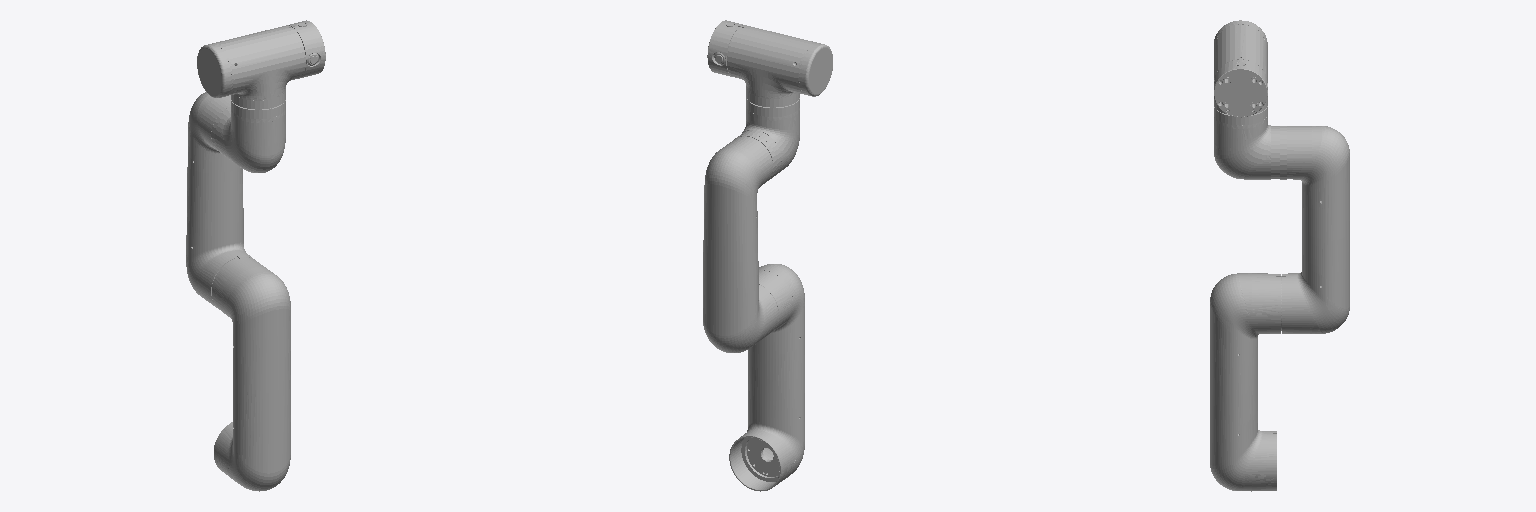
robot.urdf — mycobot_pro450:
<?xml version="1.0" encoding="utf-8"?>
<!-- This URDF was automatically created by SolidWorks to URDF Exporter! Originally created by Stephen Brawner (brawner@gmail.com) 
     Commit Version: 1.6.0-4-g7f85cfe  Build Version: 1.6.7995.38578
     For more information, please see http://wiki.ros.org/sw_urdf_exporter -->
<robot
  name="mycobot_pro450">
  <link                                                                                                                                                                           
    name="base_link">
    <inertial>
      <origin
        xyz="-0.0107 -0.0002 0.0723"
        rpy="0 0 0" />
      <mass
        value="2.2569" />
      <inertia
        ixx="0.0206"
        ixy="0"
        ixz="-0.0011"
        iyy="0.0225"
        iyz="0"
        izz="0.0057" />
    </inertial>
    <visual>
      <origin
        xyz="0 0 0"
        rpy="0 0 0" />
      <geometry>
        <mesh
          filename="package://mycobot_pro_450_description/meshes/base_link.STL" />
      </geometry>
      <material
        name="">
        <color
          rgba="0.75294 0.75294 0.75294 1" />
      </material>
    </visual>
    <collision>
      <origin
        xyz="0 0 0"
        rpy="0 0 0" />
      <geometry>
        <mesh
          filename="package://mycobot_pro_450_description/meshes/base_link.STL" />
      </geometry>
    </collision>
  </link>
  <link
    name="Link1">
    <inertial>
      <origin
        xyz="0.0005 -0.0269 -0.0023"
        rpy="0 0 0" />
      <mass
        value="0.7923" />
      <inertia
        ixx="0.0014"
        ixy="0"
        ixz="0"
        iyy="0.0005"
        iyz="0"
        izz="0.0014" />
    </inertial>
    <visual>
      <origin
        xyz="0 0 0"
        rpy="0 0 0" />
      <geometry>
        <mesh
          filename="package://mycobot_pro_450_description/meshes/Link1.STL" />
      </geometry>
      <material
        name="">
        <color
          rgba="0.75294 0.75294 0.75294 1" />
      </material>
    </visual>
    <collision>
      <origin
        xyz="0 0 0"
        rpy="0 0 0" />
      <geometry>
        <mesh
          filename="package://mycobot_pro_450_description/meshes/Link1.STL" />
      </geometry>
    </collision>
  </link>
  <joint
    name="joint1"
    type="revolute">
    <origin
      xyz="0 0 0.210000000061212"
      rpy="0 0 0" />
    <parent
      link="base_link" />
    <child
      link="Link1" />
    <axis
      xyz="0 0 1" />
    <limit
      lower="-2.827433"
      upper="2.82743"
      effort="0"
      velocity="2.6178" />
  </joint>
  <link
    name="Link2">
    <inertial>
      <origin
        xyz="-0.1353 0.0001 0.0747"
        rpy="0 0 0" />
      <mass
        value="0.8204" />
      <inertia
        ixx="0.0051"
        ixy="0"
        ixz="-0.0079"
        iyy="0.0238"
        iyz="0"
        izz="0.0191" />
    </inertial>
    <visual>
      <origin
        xyz="0 0 0"
        rpy="0 0 0" />
      <geometry>
        <mesh
          filename="package://mycobot_pro_450_description/meshes/Link2.STL" />
      </geometry>
      <material
        name="">
        <color
          rgba="0.75294 0.75294 0.75294 1" />
      </material>
    </visual>
    <collision>
      <origin
        xyz="0 0 0"
        rpy="0 0 0" />
      <geometry>
        <mesh
          filename="package://mycobot_pro_450_description/meshes/Link2.STL" />
      </geometry>
    </collision>
  </link>
  <joint
    name="joint2"
    type="revolute">
    <origin
      xyz="0 0 0"
      rpy="1.57079632679529 1.5707963267949 0" />
    <parent
      link="Link1" />
    <child
      link="Link2" />
    <axis
      xyz="0 0 1" />
    <limit
      lower="-2.181622"
      upper="2.181622"
      effort="0"
      velocity="2.6178" />
  </joint>
  <link
    name="Link3">
    <inertial>
      <origin
        xyz="-0.1141 -0.0001 0.013"
        rpy="0 0 0" />
      <mass
        value="0.6" />
      <inertia
        ixx="0.0005"
        ixy="0"
        ixz="-0.0011"
        iyy="0.0113"
        iyz="0"
        izz="0.011" />
    </inertial>
    <visual>
      <origin
        xyz="0 0 0"
        rpy="0 0 0" />
      <geometry>
        <mesh
          filename="package://mycobot_pro_450_description/meshes/Link3.STL" />
      </geometry>
      <material
        name="">
        <color
          rgba="0.75294 0.75294 0.75294 1" />
      </material>
    </visual>
    <collision>
      <origin
        xyz="0 0 0"
        rpy="0 0 0" />
      <geometry>
        <mesh
          filename="package://mycobot_pro_450_description/meshes/Link3.STL" />
      </geometry>
    </collision>
  </link>
  <joint
    name="joint3"
    type="revolute">
    <origin
      xyz="-0.179219598097142 0 0"
      rpy="0 0 0" />
    <parent
      link="Link2" />
    <child
      link="Link3" />
    <axis
      xyz="0 0 1" />
    <limit
      lower="-2.687807"
      upper="2.687807"
      effort="0"
      velocity="2.6178" />
  </joint>
  <link
    name="Link4">
    <inertial>
      <origin
        xyz="-0.0218 0 -0.0064"
        rpy="0 0 0" />
      <mass
        value="0.4483" />
      <inertia
        ixx="0.0002"
        ixy="0"
        ixz="0"
        iyy="0.0006"
        iyz="0"
        izz="0.0006" />
    </inertial>
    <visual>
      <origin
        xyz="0 0 0"
        rpy="0 0 0" />
      <geometry>
        <mesh
          filename="package://mycobot_pro_450_description/meshes/Link4.STL" />
      </geometry>
      <material
        name="">
        <color
          rgba="0.75294 0.75294 0.75294 1" />
      </material>
    </visual>
    <collision>
      <origin
        xyz="0 0 0"
        rpy="0 0 0" />
      <geometry>
        <mesh
          filename="package://mycobot_pro_450_description/meshes/Link4.STL" />
      </geometry>
    </collision>
  </link>
  <joint
    name="joint4"
    type="revolute">
    <origin
      xyz="-0.173780401902847 0 0.0854905429592015"
      rpy="0 0 -1.5707963267949" />
    <parent
      link="Link3" />
    <child
      link="Link4" />
    <axis
      xyz="0 0 1" />
    <limit
      lower="-2.827433"
      upper="2.827433"
      effort="0"
      velocity="2.6178" />
  </joint>
  <link
    name="Link5">
    <inertial>
      <origin
        xyz="0 -0.0089 -0.0044"
        rpy="0 0 0" />
      <mass
        value="0.4642" />
      <inertia
        ixx="0.0004"
        ixy="0"
        ixz="0"
        iyy="0.0002"
        iyz="0"
        izz="0.0004" />
    </inertial>
    <visual>
      <origin
        xyz="0 0 0"
        rpy="0 0 0" />
      <geometry>
        <mesh
          filename="package://mycobot_pro_450_description/meshes/Link5.STL" />
      </geometry>
      <material
        name="">
        <color
          rgba="0.75294 0.75294 0.75294 1" />
      </material>
    </visual>
    <collision>
      <origin
        xyz="0 0 0"
        rpy="0 0 0" />
      <geometry>
        <mesh
          filename="package://mycobot_pro_450_description/meshes/Link5.STL" />
      </geometry>
    </collision>
  </link>
  <joint
    name="joint5"
    type="revolute">
    <origin
      xyz="0 -0.097501 0"
      rpy="1.5708 -1.5708 0" />
    <parent
      link="Link4" />
    <child
      link="Link5" />
    <axis
      xyz="0 0 1" />
    <limit
      lower="-2.827433"
      upper="2.827433"
      effort="0"
      velocity="2.6178" />
  </joint>
  <link
    name="Link6">
    <inertial>
      <origin
        xyz="0 -0.0001 -0.0138"
        rpy="0 0 0" />
      <mass
        value="0.129" />
      <inertia
        ixx="0.0001"
        ixy="0"
        ixz="0"
        iyy="0.0001"
        iyz="0"
        izz="0.0001" />
    </inertial>
    <visual>
      <origin
        xyz="0 0 0"
        rpy="0 0 0" />
      <geometry>
        <mesh
          filename="package://mycobot_pro_450_description/meshes/Link6.STL" />
      </geometry>
      <material
        name="">
        <color
          rgba="0.75294 0.75294 0.75294 1" />
      </material>
    </visual>
    <collision>
      <origin
        xyz="0 0 0"
        rpy="0 0 0" />
      <geometry>
        <mesh
          filename="package://mycobot_pro_450_description/meshes/Link6.STL" />
      </geometry>
    </collision>
  </link>
  <joint
    name="joint6"
    type="revolute">
    <origin
      xyz="0 0.063173 0.00020984"
      rpy="-1.5708 0 0" />
    <parent
      link="Link5" />
    <child
      link="Link6" />
    <axis
      xyz="0 0 1" />
    <limit
      lower="-2.879793"
      upper="2.879793"
      effort="0"
      velocity="2.6178" />
  </joint>
</robot>

--- Facts derived from the render (not from the file) ---
Views: 3 orthographic renders of the robot side by side, from view 1: azimuth 30°, elevation 25°; view 2: azimuth 150°, elevation 25°; view 3: azimuth 270°, elevation 25°.
Robot: mycobot_pro450 — 7 links, 6 joints (6 revolute); root link base_link; default pose: all joints at 0.
Links seen in each view (by area): view 1: Link2, Link3, Link5, Link4, Link6; view 2: Link3, Link2, Link5, Link4, Link6; view 3: Link2, Link3, Link4, Link6, Link5.
Link boxes in pixels (x1,y1,x2,y2): Link2: (212,257,290,491); Link3: (186,92,254,307); Link5: (197,25,305,109); Link4: (211,100,285,172); Link6: (289,20,325,78); Link3: (703,136,778,352); Link2: (729,264,804,491); Link5: (727,25,832,107); Link4: (734,97,799,180); Link6: (707,20,742,76); Link2: (1210,273,1281,491); Link3: (1282,126,1349,333); Link4: (1214,106,1286,179); Link6: (1214,59,1267,117); Link5: (1214,20,1267,113).
Size in the robot's own frame: 0.1211 by 0.1455 by 0.5102 metres.
Meshes: 7 distinct files referenced, 5 mesh visuals loaded (5 binary STL); not drawn: 2 (reference not matched to a file when rendering).
